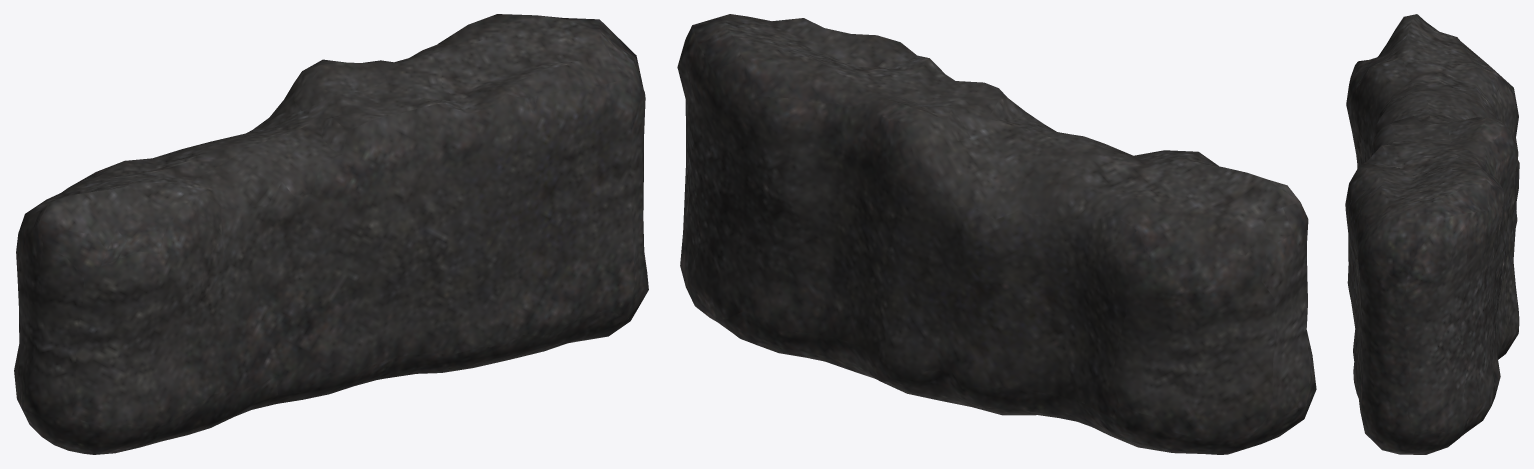
The model's file is CaveWalls4_C.obj.
3 views of the same model, side by side, from view 1: azimuth 30°, elevation 25°; view 2: azimuth 150°, elevation 25°; view 3: azimuth 270°, elevation 25° (orthographic). The views are drawn at different scales.
Visible parts, largest first — view 1: CaveWalls4C; view 2: CaveWalls4C; view 3: CaveWalls4C.
Part boxes in pixels (x1,y1,x2,y2): CaveWalls4C: (14, 14, 648, 454); CaveWalls4C: (677, 14, 1316, 454); CaveWalls4C: (1345, 14, 1519, 454).
Bounding box in the file's own units: 43.23 × 20.07 × 12.53.
1 material, 1 textured.
